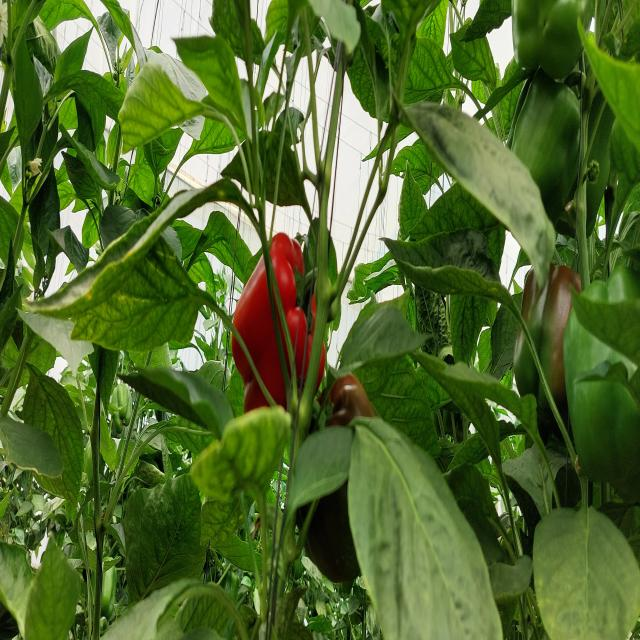BrownishRed--Can-be-Harvested: (301, 385, 381, 585), (520, 256, 588, 418)
Green--Not-ready-to-harvest: (512, 60, 584, 223), (512, 9, 580, 65)
Red-Ready-to-Harvest: (236, 227, 326, 436)
